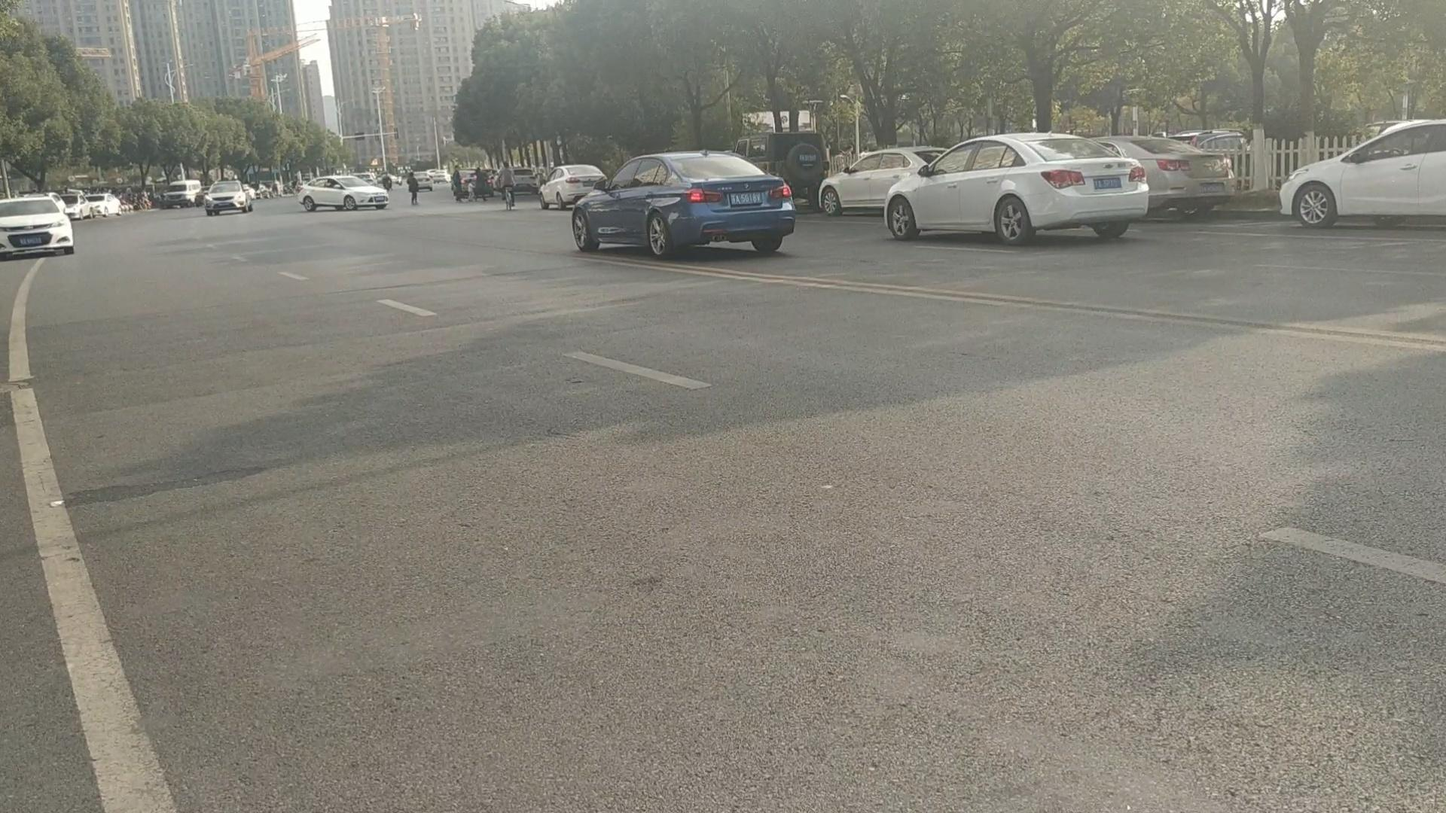car: (883, 130, 1151, 245), (564, 150, 800, 261), (1276, 118, 1445, 227), (1098, 135, 1233, 217), (816, 148, 937, 215), (1, 194, 75, 260), (1172, 130, 1246, 175), (299, 175, 389, 212), (538, 163, 609, 209), (203, 181, 255, 215), (496, 167, 538, 199), (155, 180, 201, 209), (454, 168, 493, 201), (79, 190, 116, 218), (50, 192, 86, 220), (247, 175, 281, 197), (121, 191, 153, 211), (424, 168, 452, 186)
